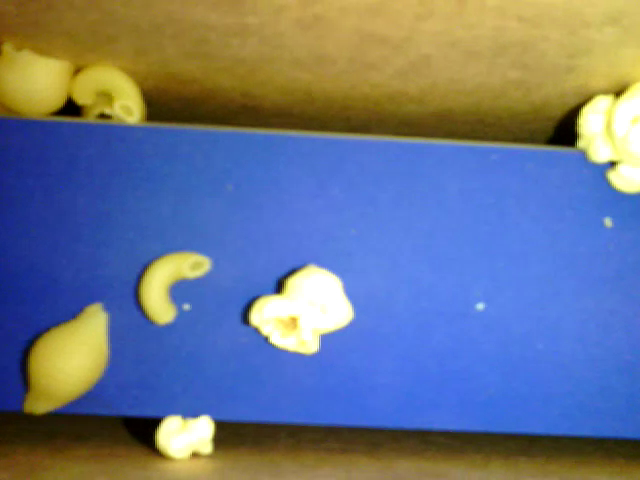elbow: (138, 252, 213, 323), (71, 63, 142, 124)
shell: (22, 301, 109, 415), (1, 43, 73, 116), (82, 95, 117, 119)
